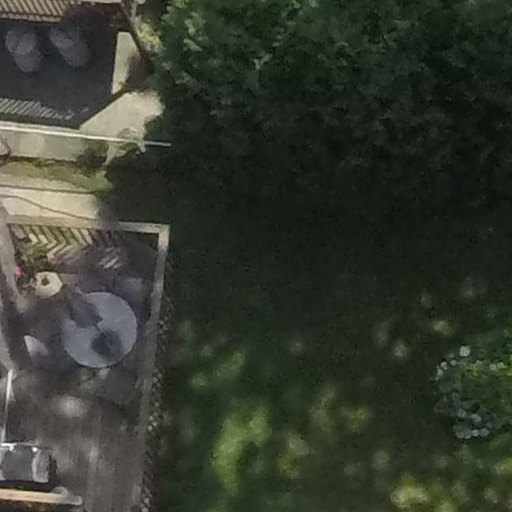container: (48, 23, 101, 71), (6, 28, 51, 76)
flower pot: (27, 264, 62, 302)
porch: (1, 185, 212, 506)
table: (59, 278, 132, 374)
